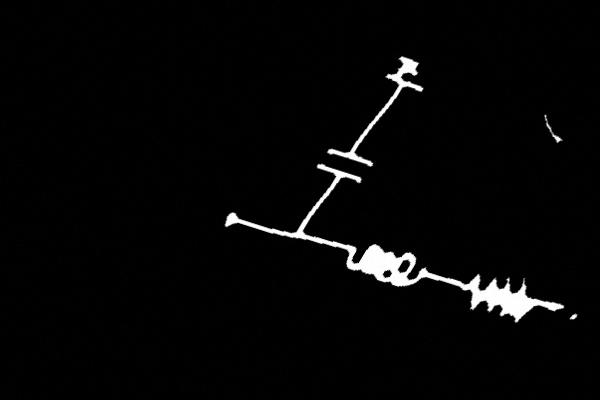capacitor: (307, 136, 382, 192)
ground: (375, 53, 440, 102)
inductor: (328, 233, 447, 299)
resistor: (443, 259, 556, 331)
